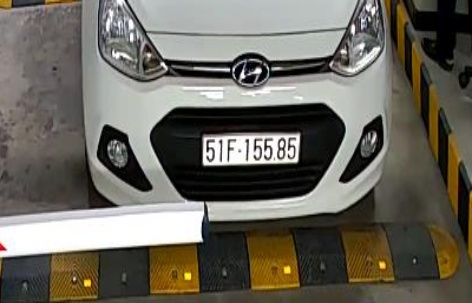plate: (197, 131, 302, 170)
